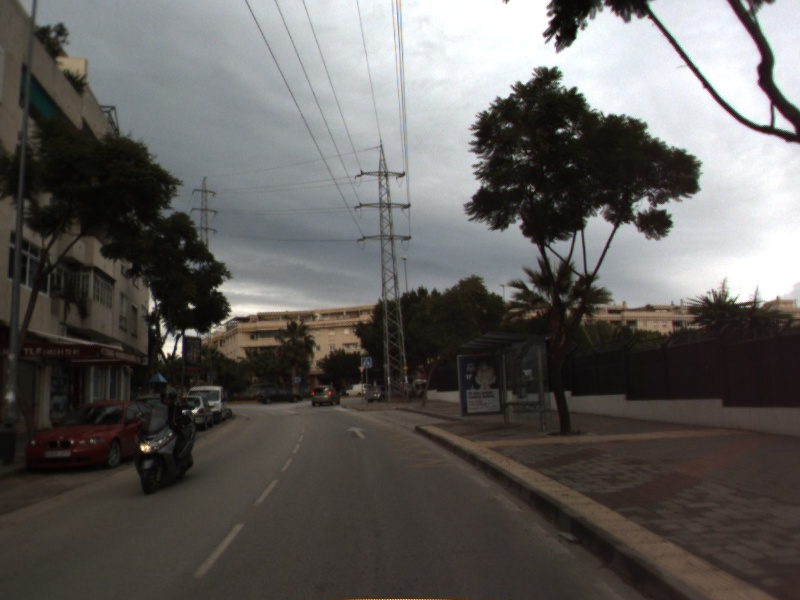STRAIGHT: (344, 424, 371, 440)
